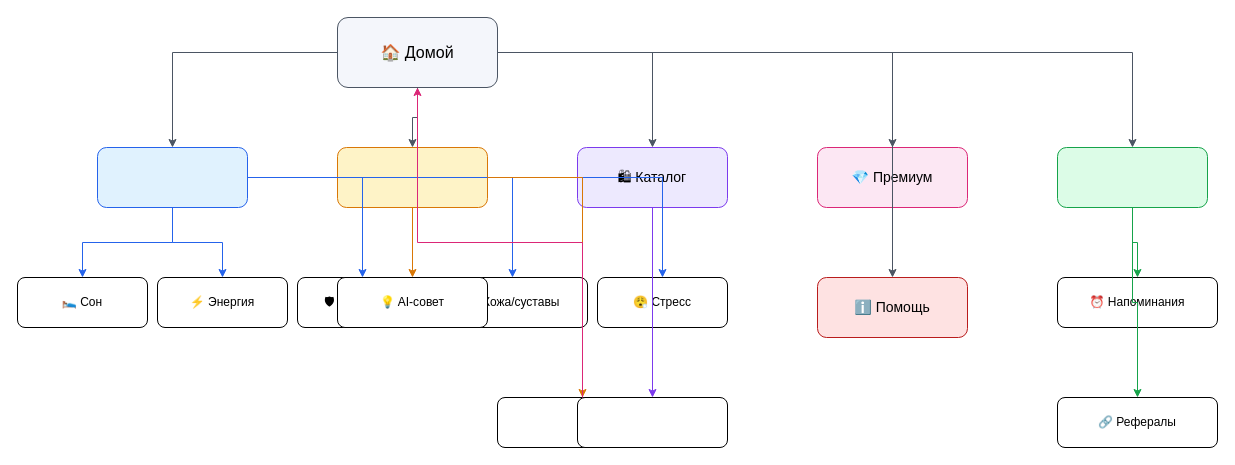
The diagram is 1235 pixels wide and 465 high, and some of its shapes have lost their labels. Each missing label, with the box of its shape:
⚡ Тесты: (96, 146, 248, 208)
🎯 План (AI): (336, 146, 488, 208)
👤 Профиль: (1056, 146, 1208, 208)
💎 Премиум-план: (496, 396, 668, 448)
🛒 Корзина: (576, 396, 728, 448)
